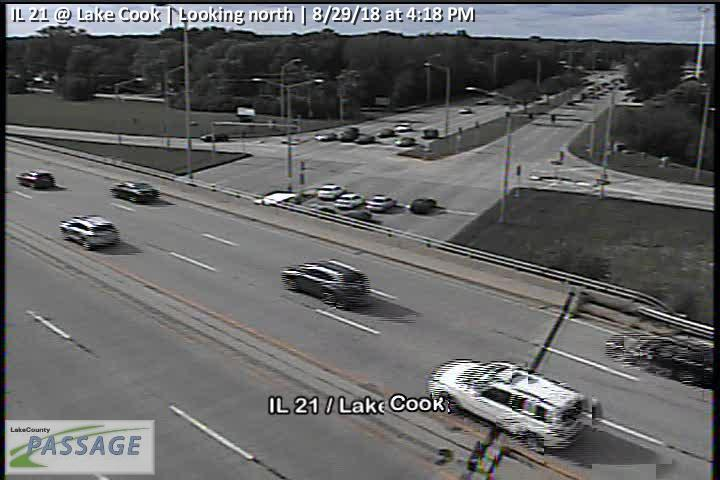SUV: (425, 358, 590, 454), (279, 258, 371, 308), (59, 214, 120, 250), (15, 168, 55, 189)
Sedan: (604, 329, 713, 387), (109, 180, 159, 203), (333, 193, 365, 210), (366, 195, 396, 212), (410, 197, 437, 214)
